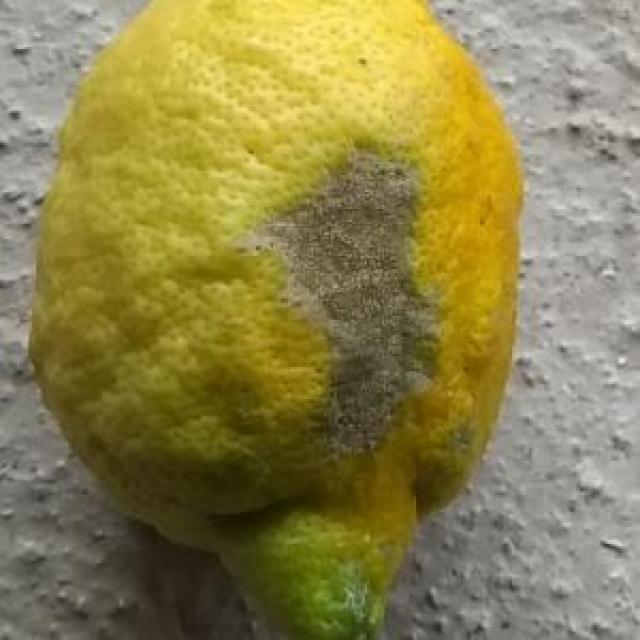lemon: (28, 5, 526, 640)
